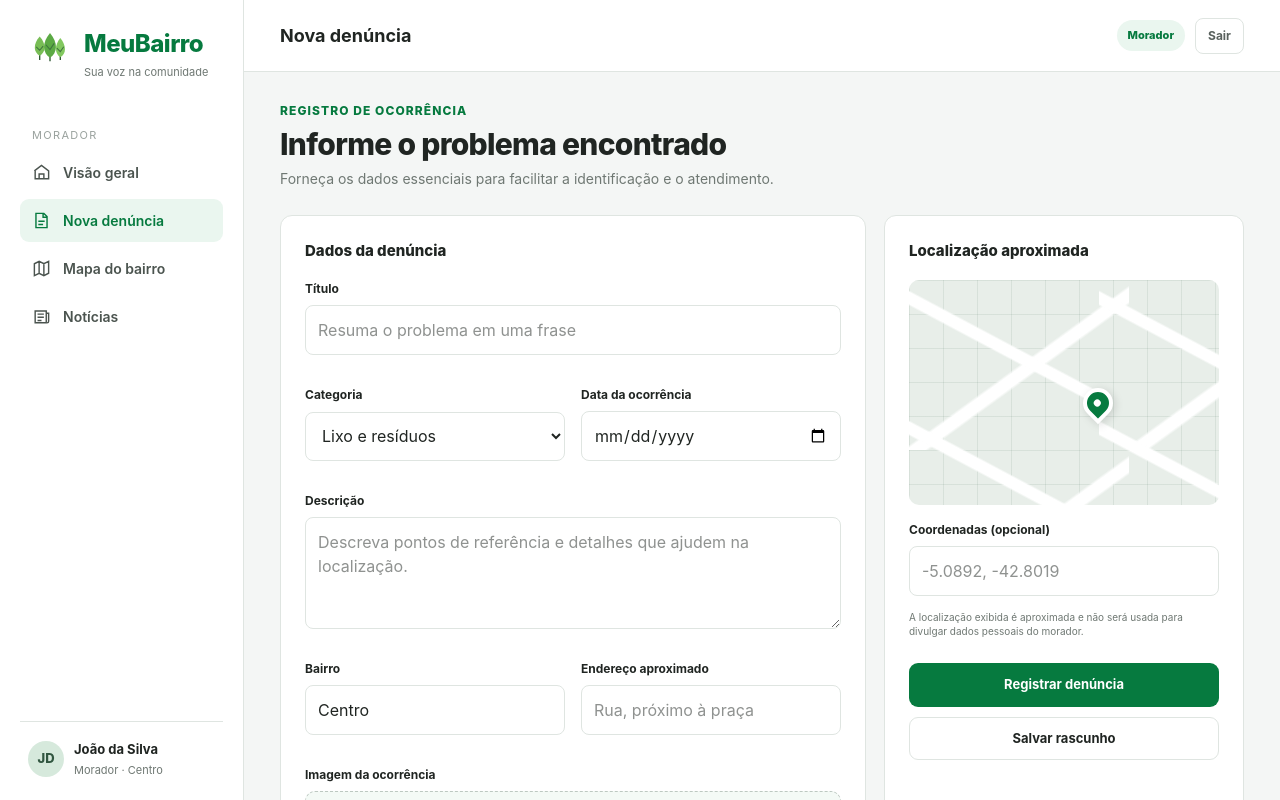
MeuBairro integration with the API (Entrega 4) › shows the API error on the new report form without leaving the page
This screenshot has width=1280, height=800.
Expected: the heading "Informe o problema encontrado" is shown, [280,127,774,162]
Type "Buraco na rua" into the field labelled "Título" at (573, 330), box [305,305,841,355]
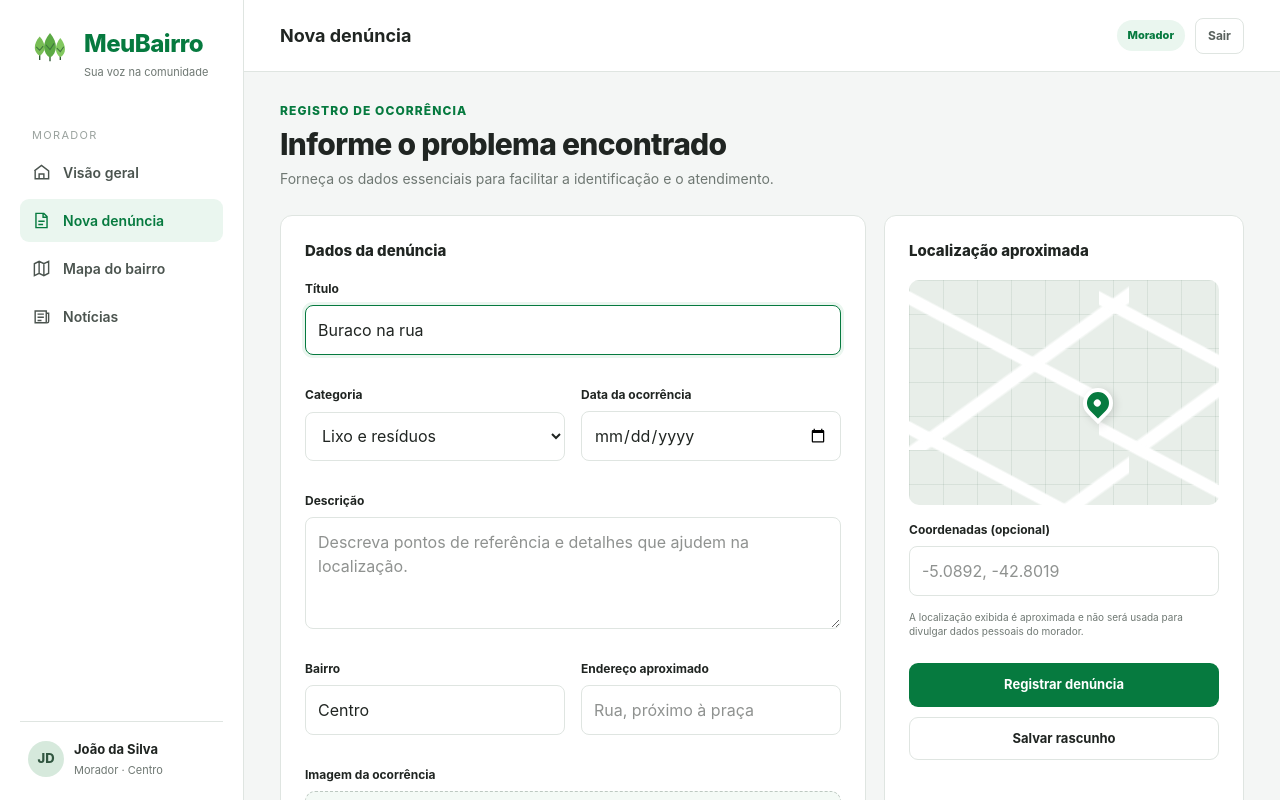
Type "Buraco grande atrapalha o trânsito." into the text box labelled "Descrição" at (573, 573), box [305,517,841,629]
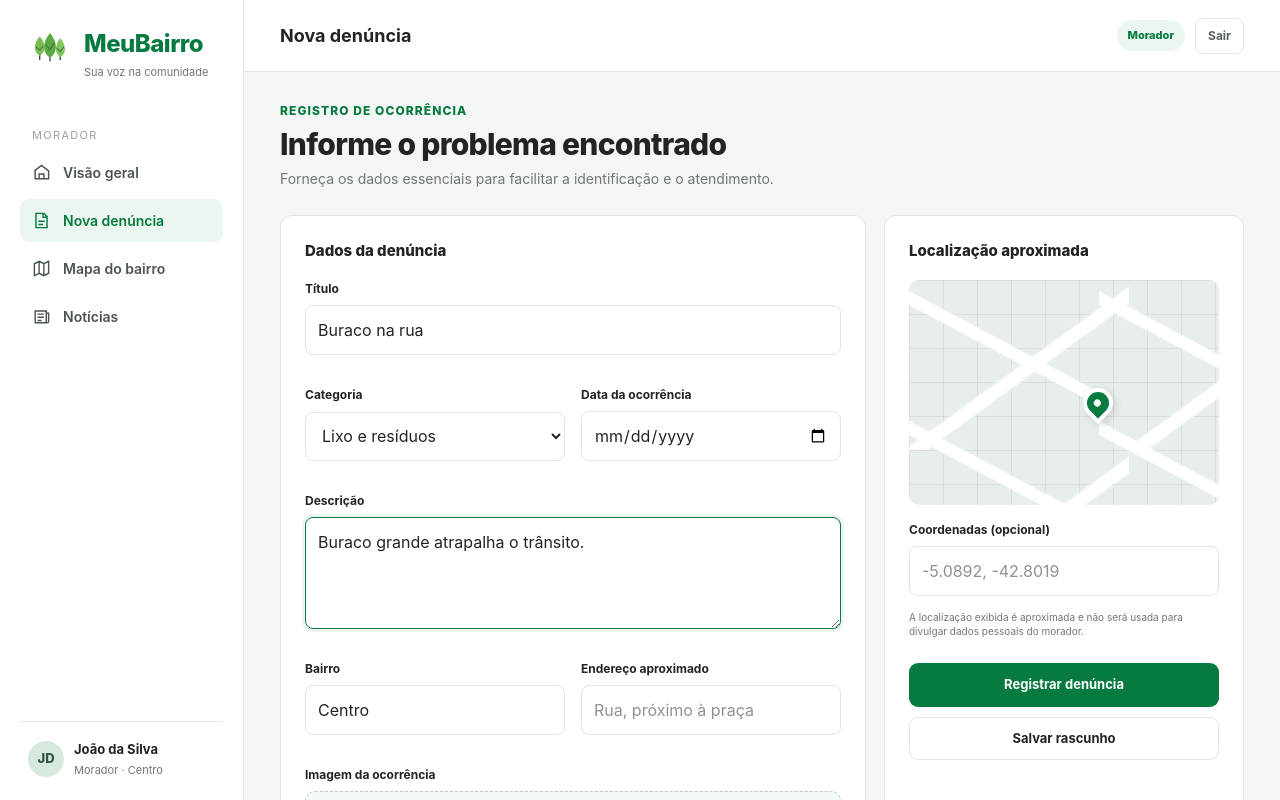
Type "Parque Piauí" into the field labelled "Bairro" at (435, 710), box [305,685,565,735]
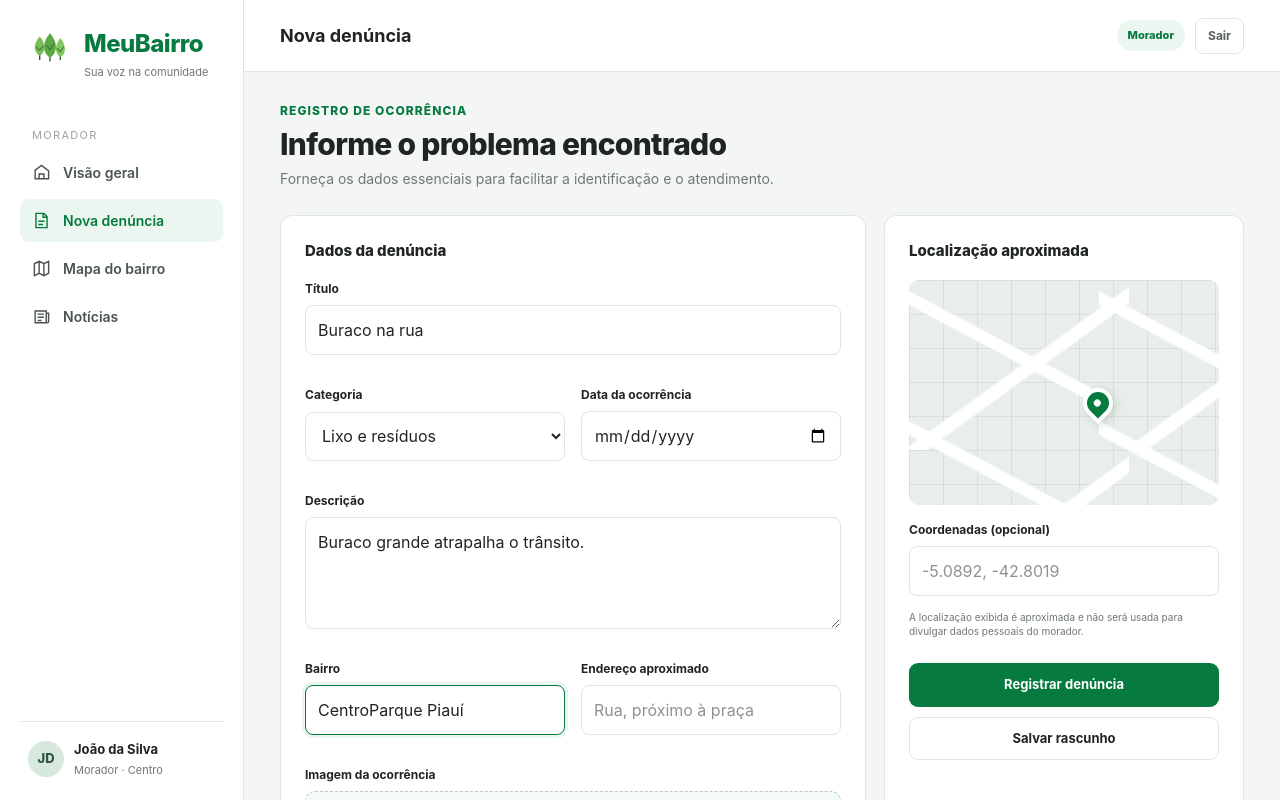
Type "Rua das Palmeiras" into the field labelled "Endereço aproximado" at (711, 710), box [581,685,841,735]
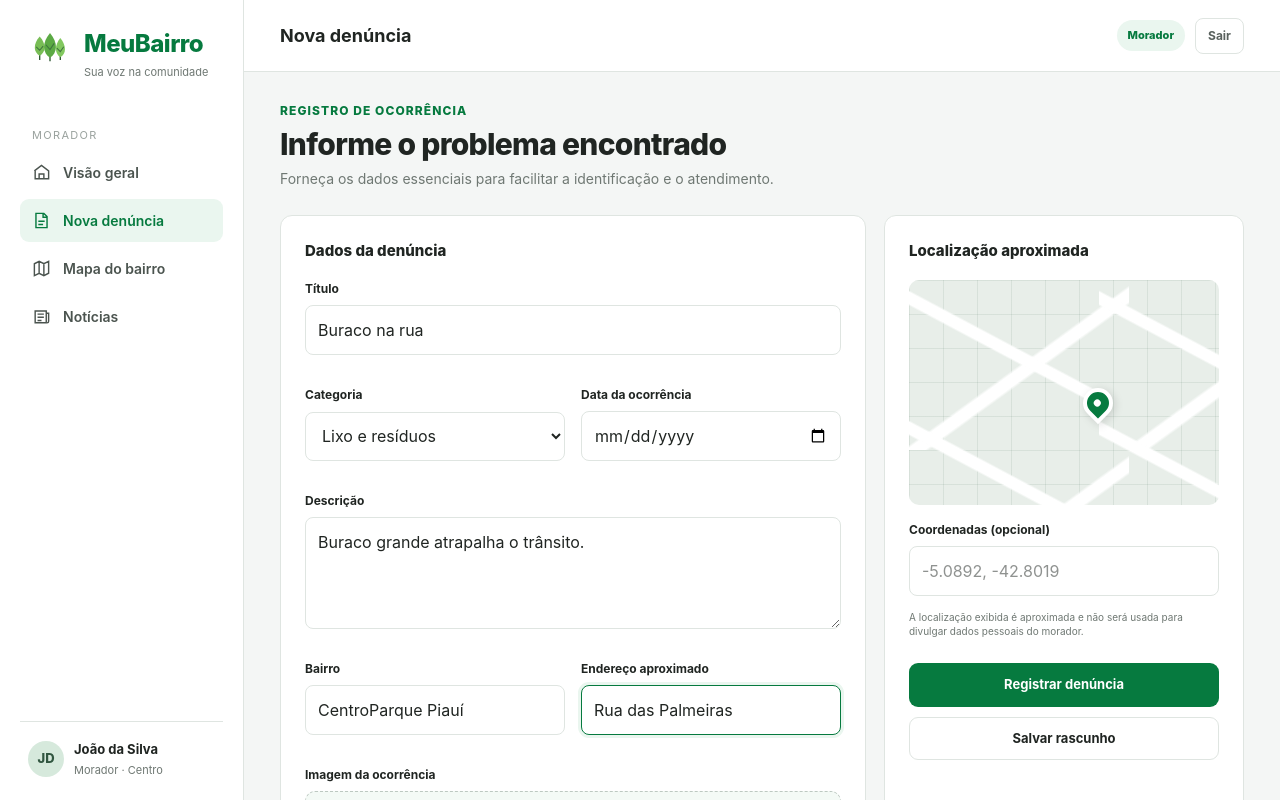
Click the button "Registrar denúncia" at (1064, 685), box [909,663,1219,707]
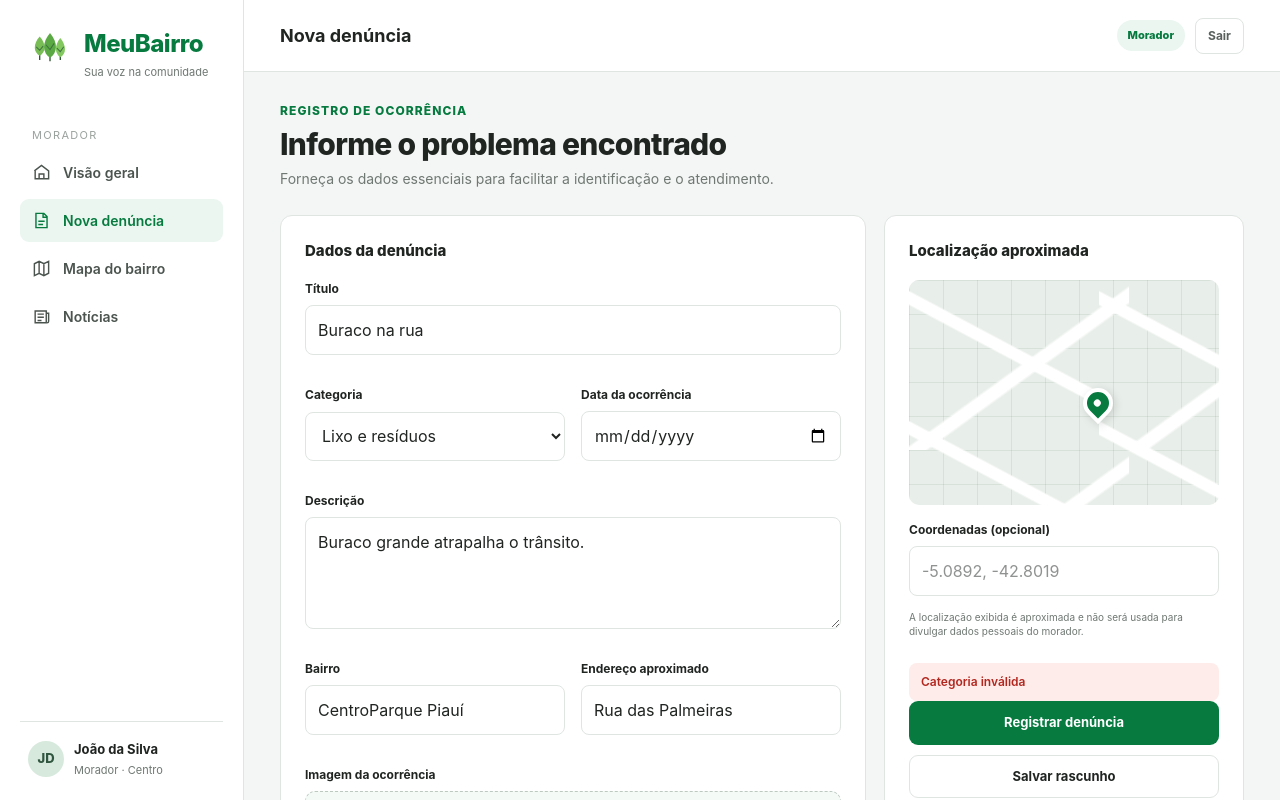
Expected: the heading "Informe o problema encontrado" is shown, [280,127,774,162]
Expected: the message reads "Categoria inválida", [921,674,1025,689]
